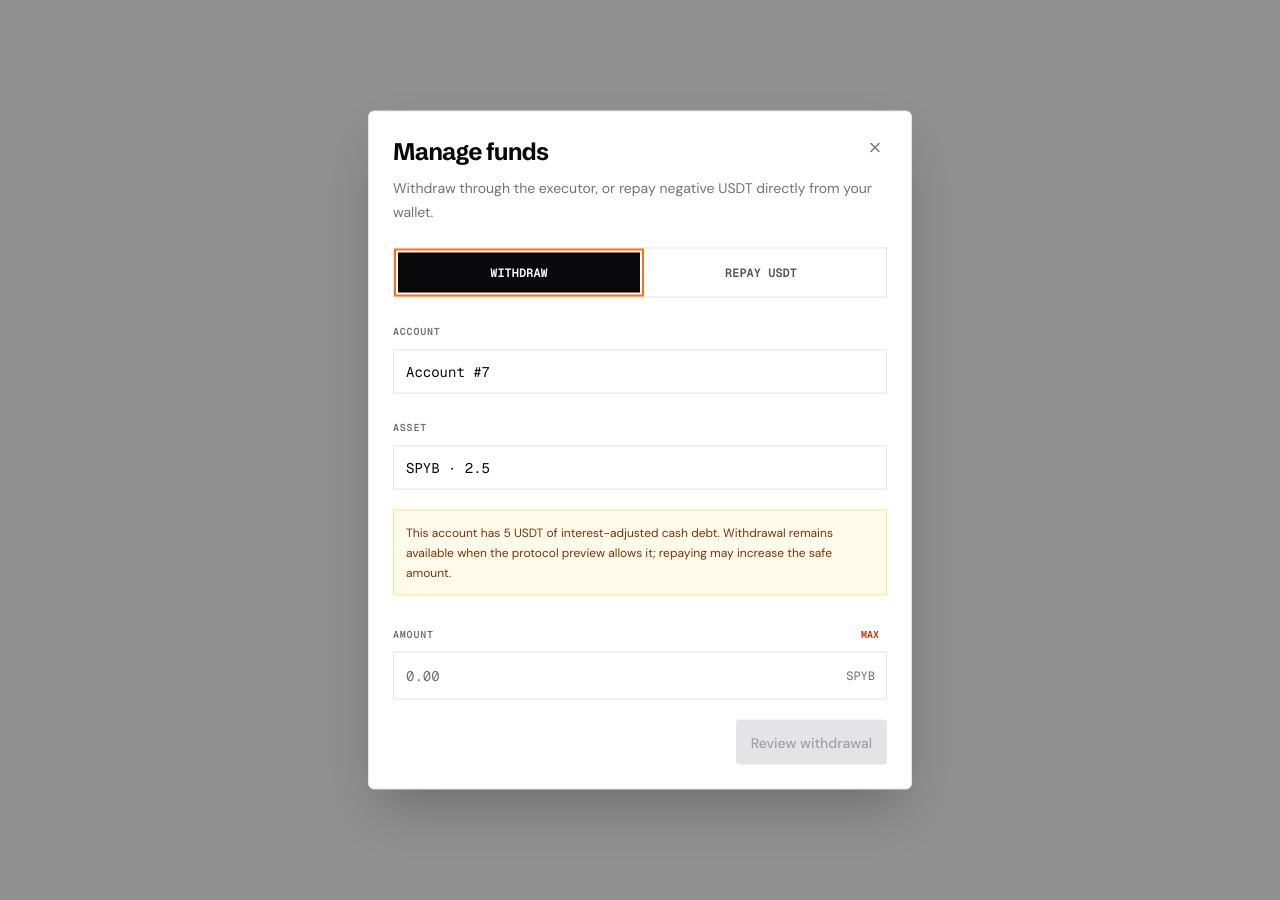
Test: FundsModal › rejects zero before making a preview request and keeps repay optional
Type "0" into the field labelled "Amount" at (640, 676), box [393,652,887,700]
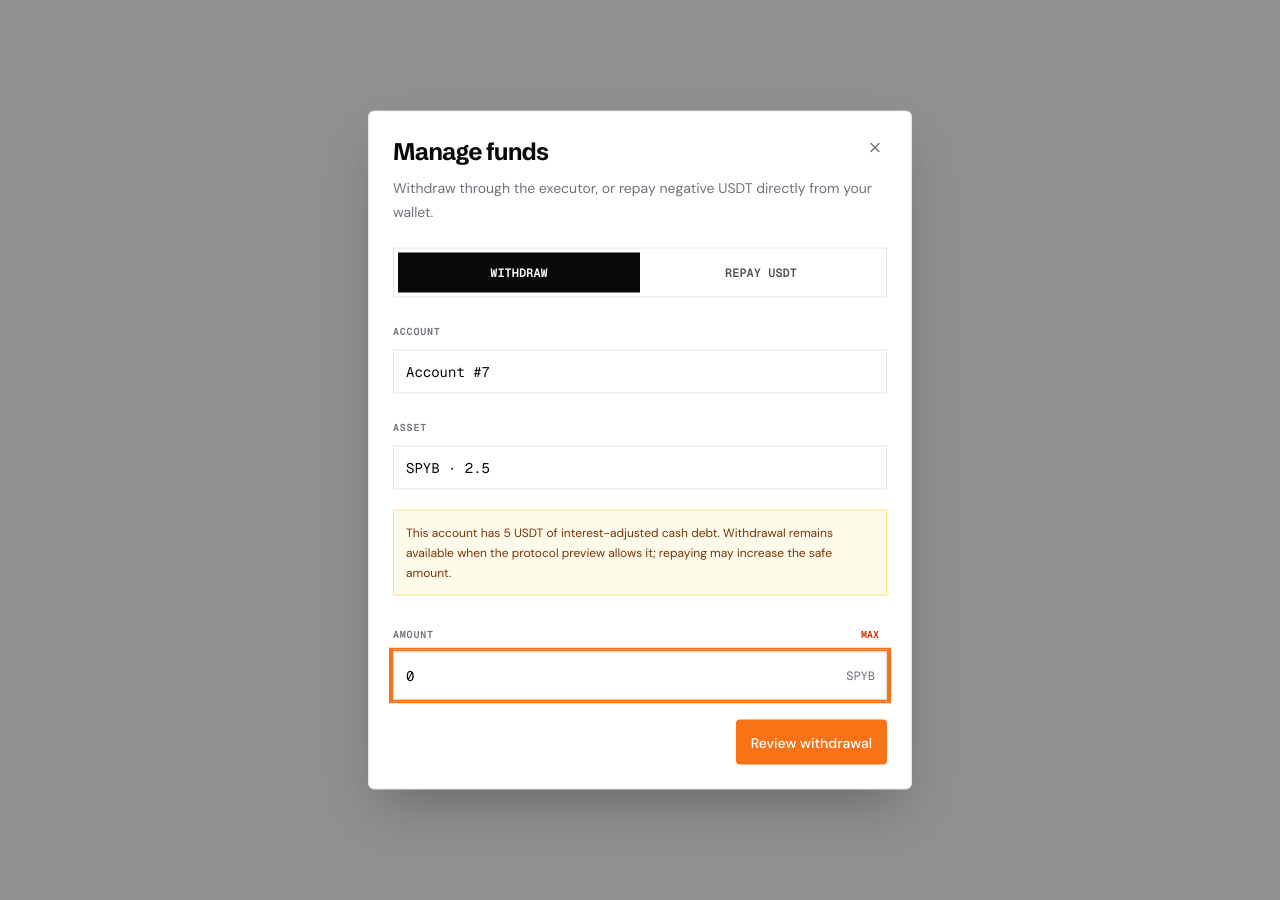
Click the button "Review withdrawal" at (811, 742), box [736,720,887,764]
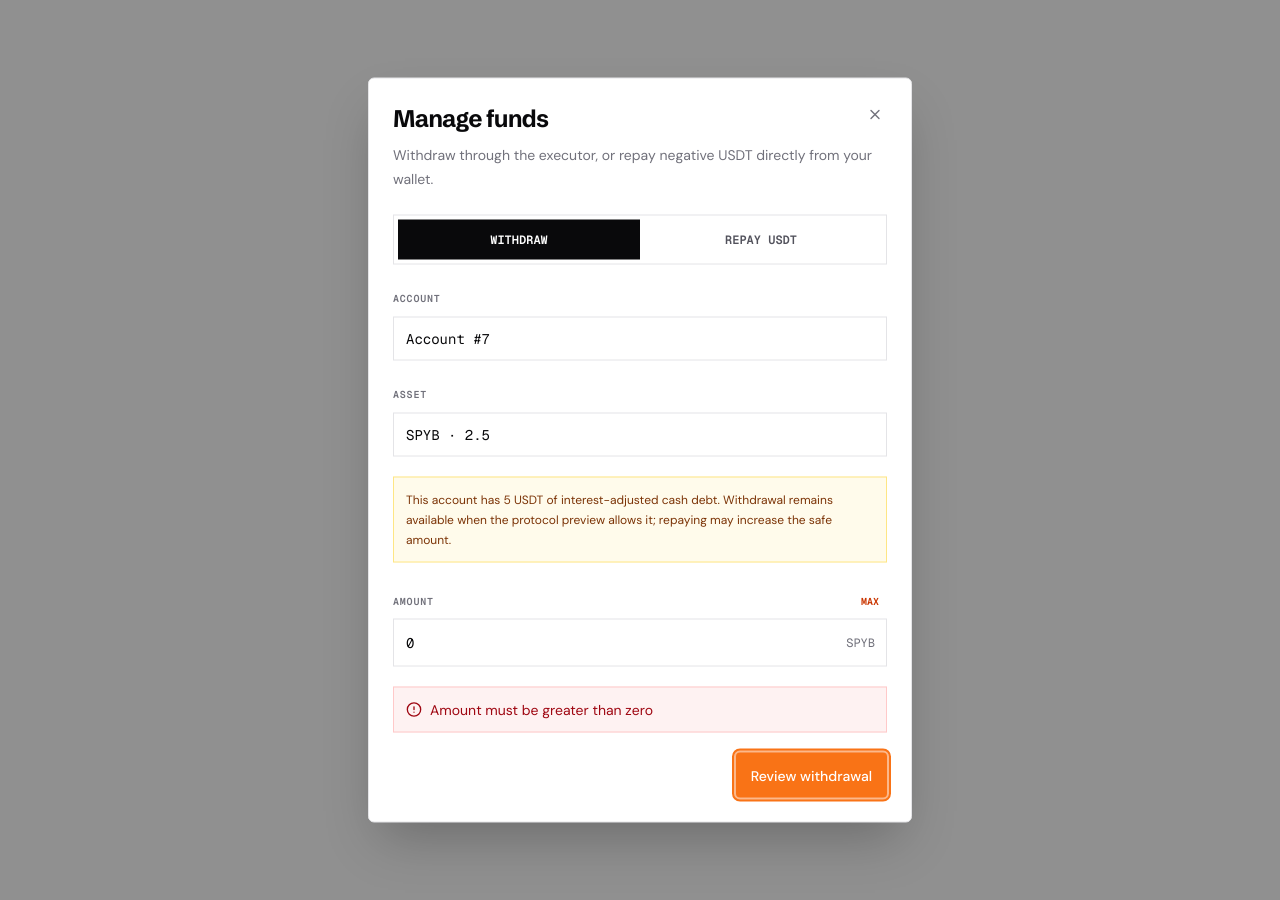
Check: the message shows "greater than zero", box [430,700,653,718]
